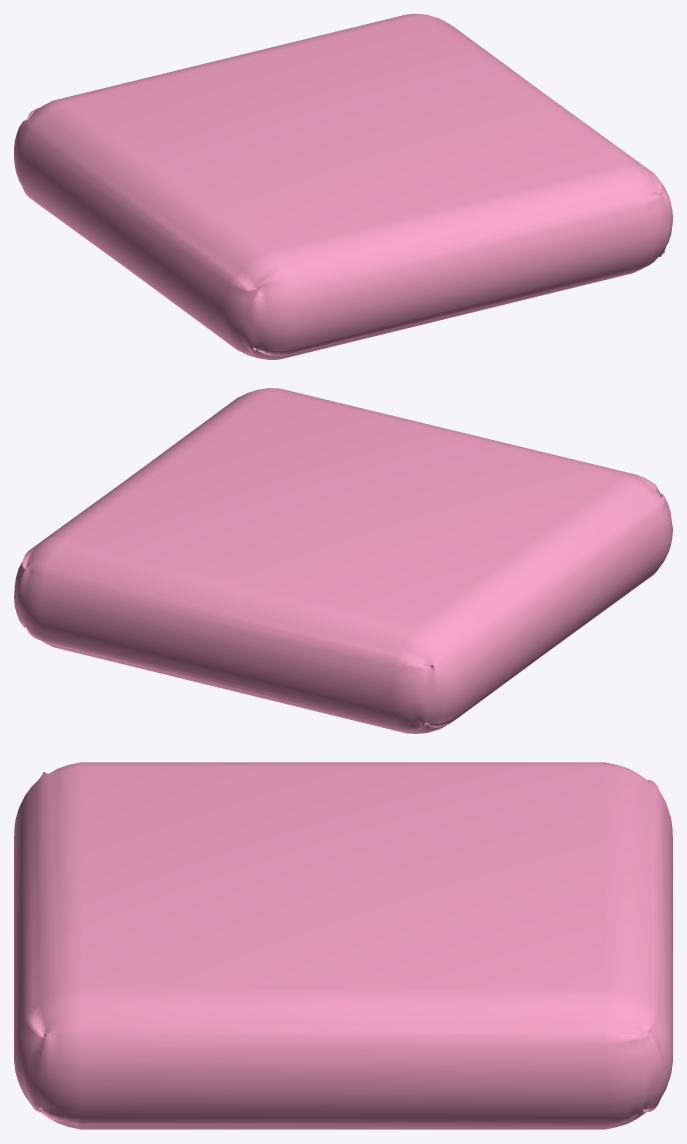
File: badge_java.glb
The picture shows the model from 3 angles, top to bottom: view 1: azimuth 30°, elevation 25°; view 2: azimuth 150°, elevation 25°; view 3: azimuth 270°, elevation 25°; orthographic projection. The views are drawn at different scales.
Parts seen in each view (by area): view 1: badge_java; view 2: badge_java; view 3: badge_java.
Part boxes in pixels (x1,y1,x2,y2): badge_java: (14,14,672,359); badge_java: (14,388,672,733); badge_java: (14,762,672,1129).
Size of the model in its own units: 1.54 by 0.3499 by 1.54.
